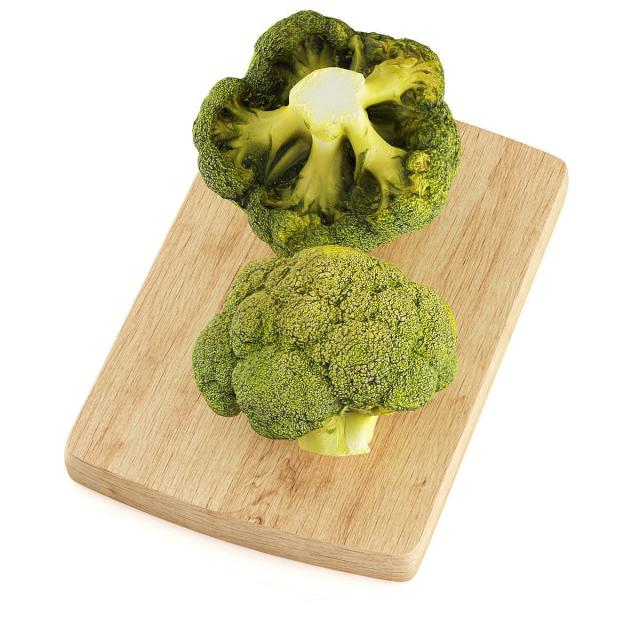broccoli: (168, 11, 458, 257), (190, 240, 461, 461)
